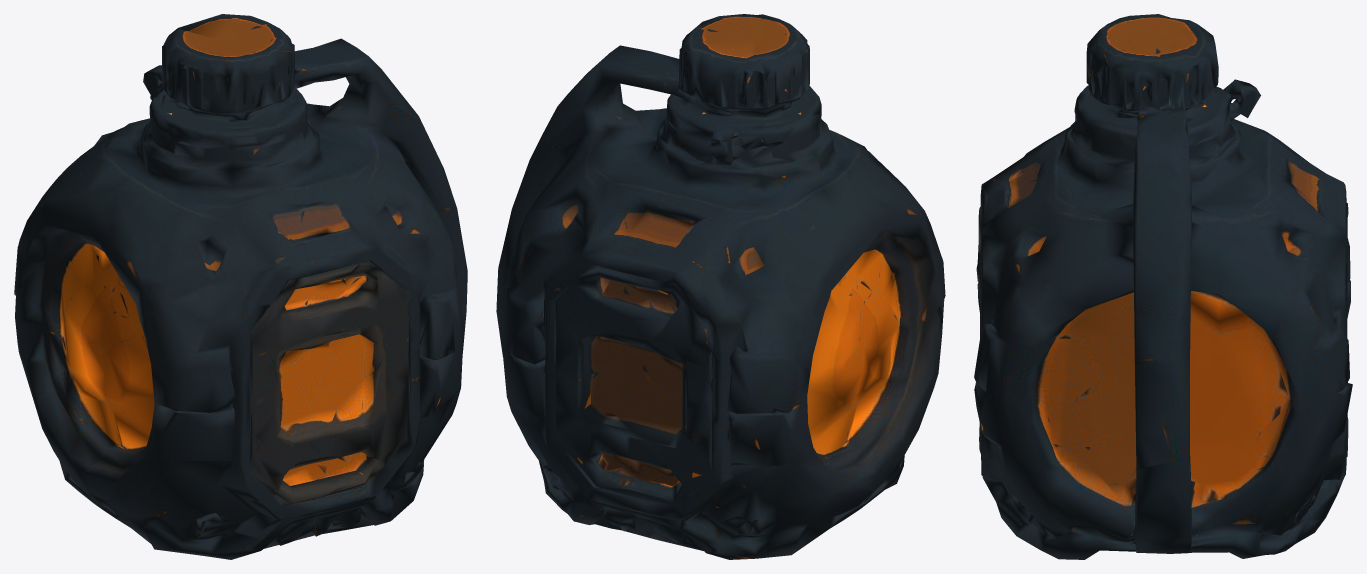
Rendered from boostCanister.1233b9c7.glb.
The picture shows the model from 3 angles, left to right: view 1: azimuth 30°, elevation 25°; view 2: azimuth 150°, elevation 25°; view 3: azimuth 270°, elevation 25°; orthographic projection.
Bounding box in the file's own units: 1.61 × 1.9 × 1.43.
1 material, 1 textured.
